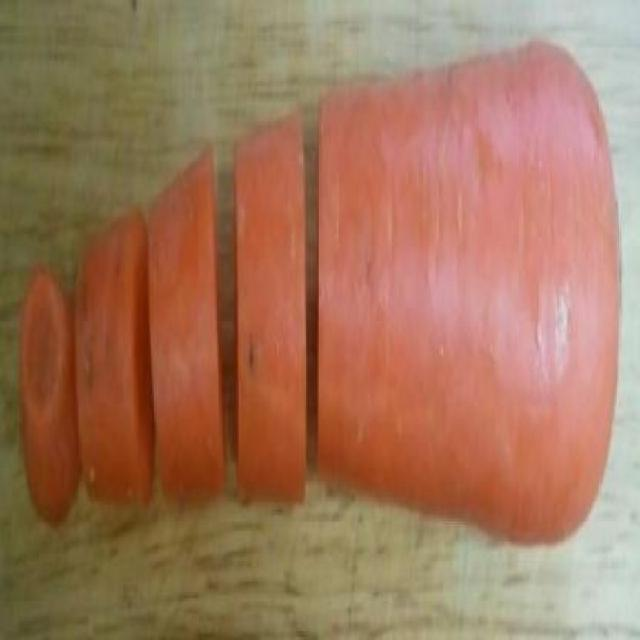carrot: (314, 24, 626, 544)
